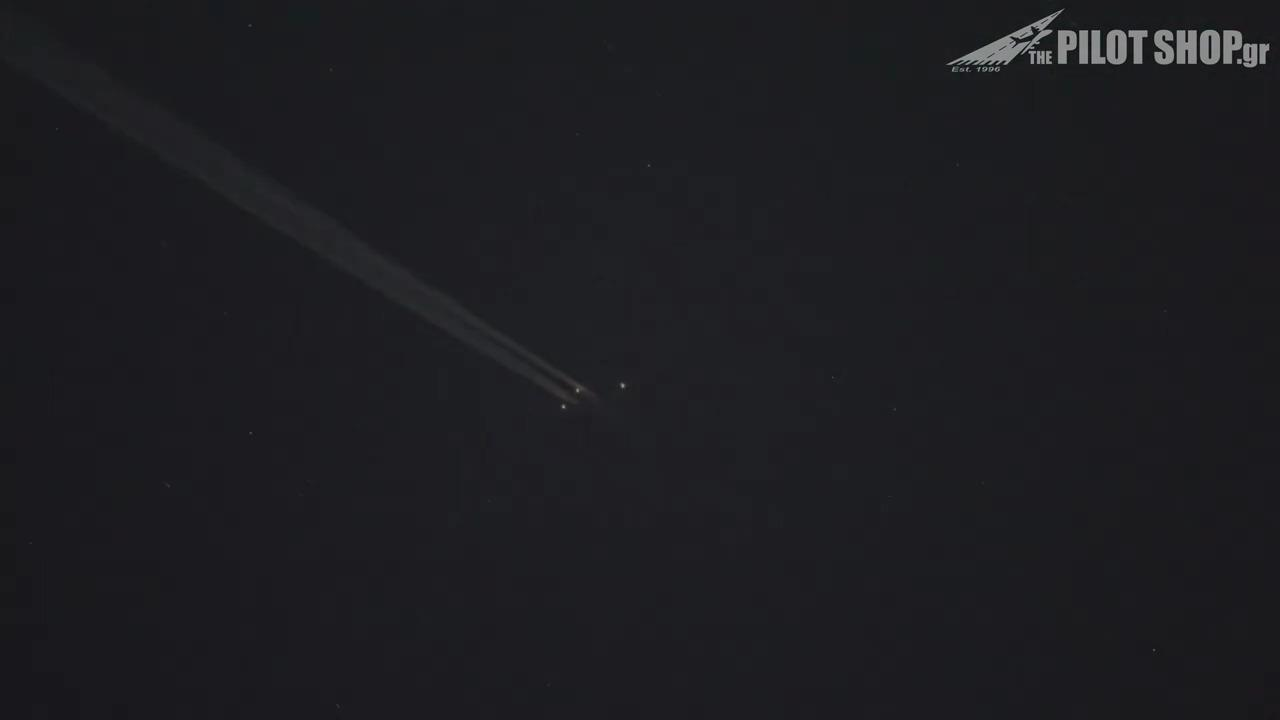Plane: (499, 357, 659, 428)
